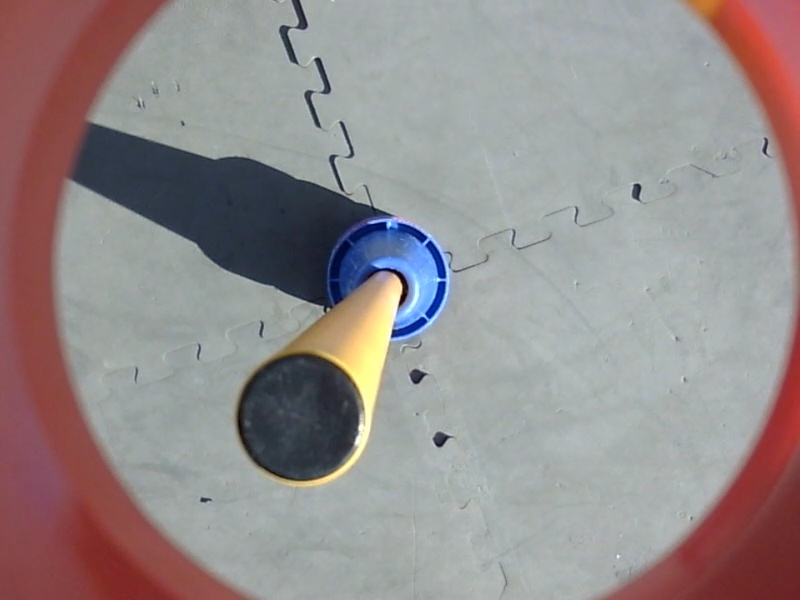tip: (230, 345, 376, 491)
